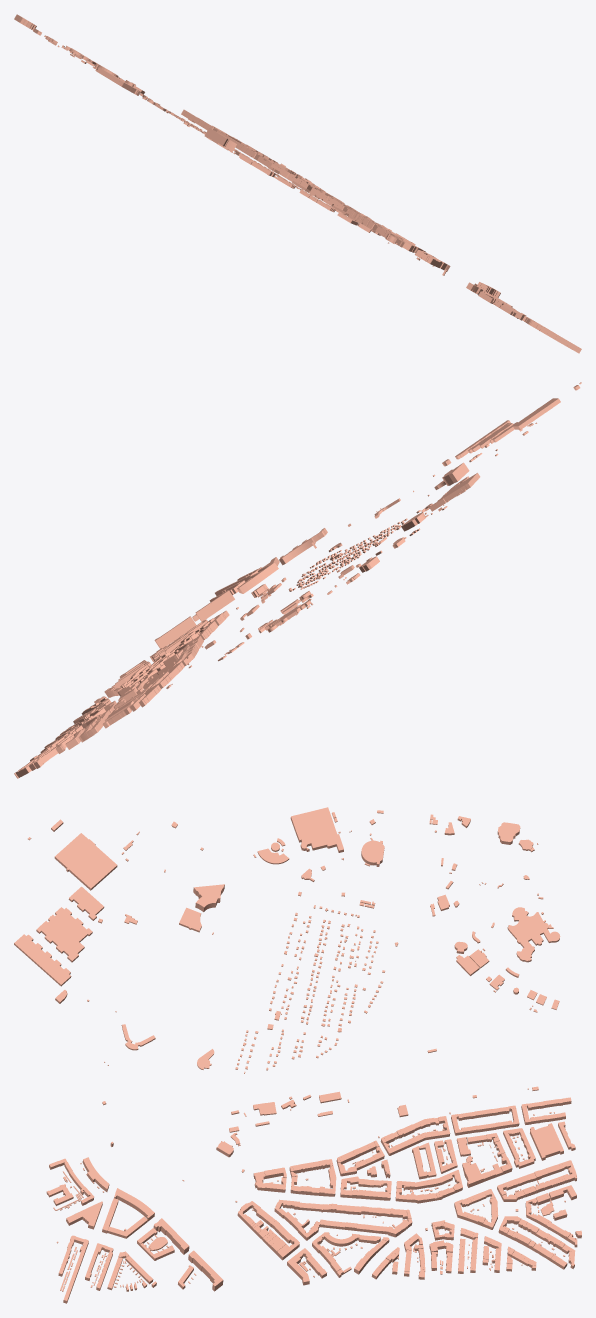
3 views of the same model, one above another, from view 1: azimuth 30°, elevation 25°; view 2: azimuth 150°, elevation 25°; view 3: azimuth 270°, elevation 25° (orthographic). The views are drawn at different scales.
Size of the model in its own units: 1041 by 776 by 1299.
